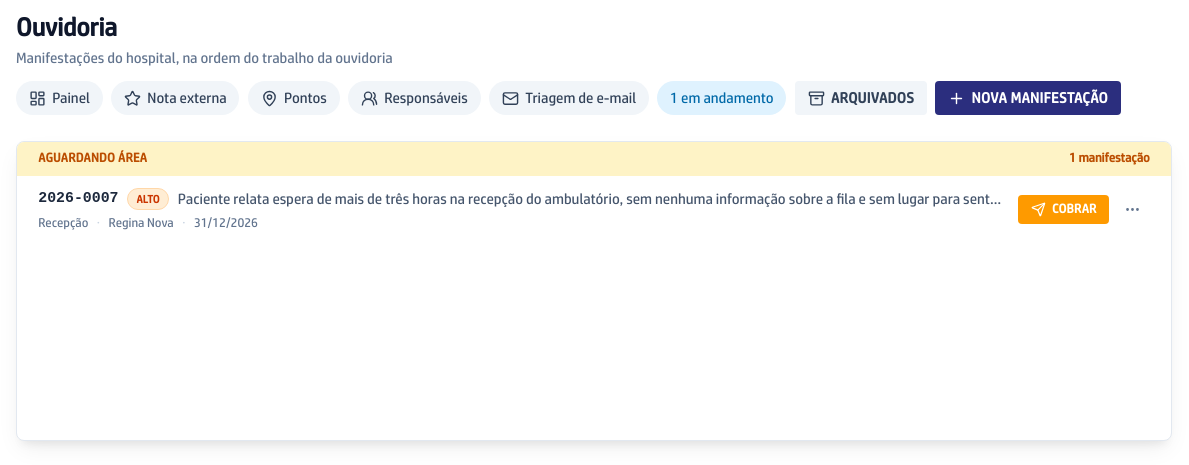
it: cobrar é acordar o setor de novo (RN-74, issue #536) › o setor que trocou de titular continua cobrável, pelo mesmo botão
The image size is (1189, 465).
Check: the text "2026-0007" is shown, box [38,188,119,210]
Check: the text "Regina Nova" is shown, box [108,215,174,232]
Click the button "Cobrar": click(1064, 210) [1018,195,1109,224]
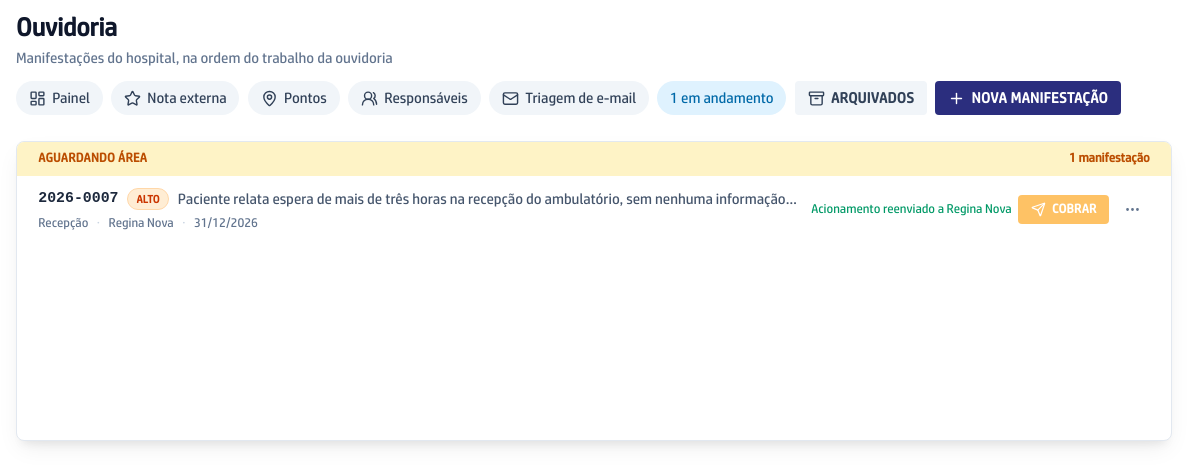
Check: the text "Acionamento reenviado a Regina Nova" is shown, box [811,201,1012,218]
